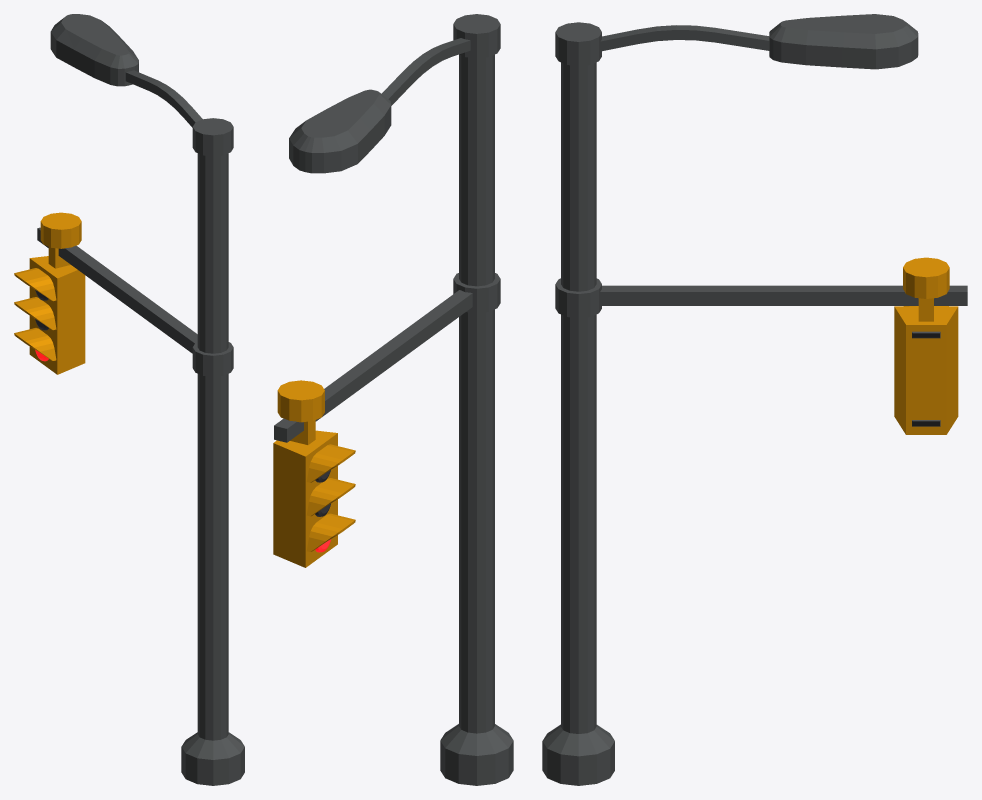
File: SM_Traffic_Light_1.fbx
The picture shows the model from 3 angles, left to right: view 1: azimuth 30°, elevation 25°; view 2: azimuth 150°, elevation 25°; view 3: azimuth 270°, elevation 25°; orthographic projection. The views are drawn at different scales.
Visible parts, largest first — view 1: SM_Traffic_Light_1_LOD0; view 2: SM_Traffic_Light_1_LOD0; view 3: SM_Traffic_Light_1_LOD0.
Boxes of the visible parts, x1,y1,x2,y2 form: SM_Traffic_Light_1_LOD0: (14,14,244,785); SM_Traffic_Light_1_LOD0: (273,14,513,785); SM_Traffic_Light_1_LOD0: (542,14,967,785).
Size of the model in its own units: 101 by 477 by 924.
Materials: 1 (1 with a texture image).
